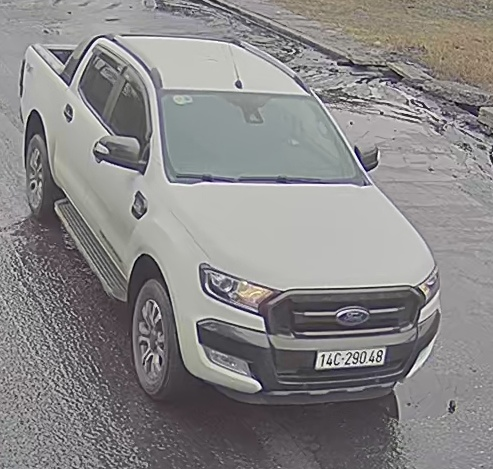vehicle plate: (314, 347, 389, 373)
